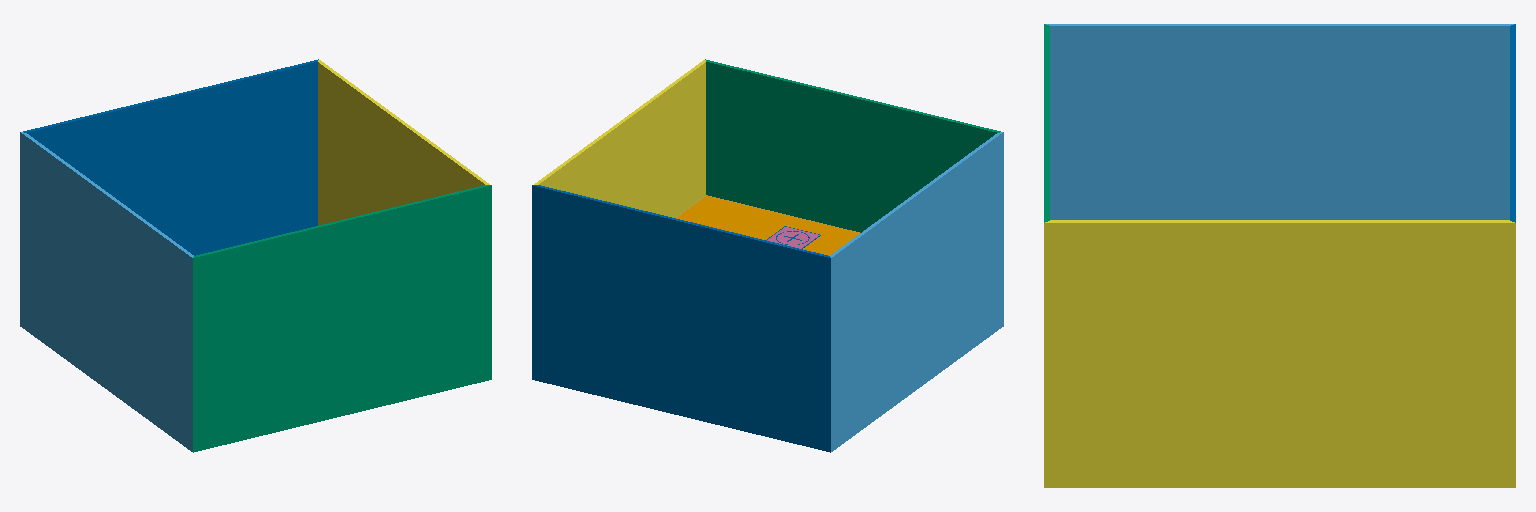
--- Render facts (derived) ---
3 views of the same robot in one strip: view 1: azimuth 30°, elevation 25°; view 2: azimuth 150°, elevation 25°; view 3: azimuth 270°, elevation 25° (orthographic).
Robot: arena_2025_desenho — 23 links, 22 joints (22 fixed); root link base_link; default pose: every joint at zero.
Visible links, largest first — view 1: parede2, parede4, parede1, parede3; view 2: parede4, parede1, parede2, parede3, casa_teto, Landing_Basesazul6; view 3: parede3, parede1, parede2, parede4.
Boxes of the visible links, left/top/right/bottom form: parede2: left=193, top=185, right=491, bottom=452; parede4: left=23, top=59, right=318, bottom=255; parede1: left=20, top=132, right=193, bottom=451; parede3: left=318, top=60, right=489, bottom=225; parede4: left=532, top=185, right=830, bottom=452; parede1: left=830, top=132, right=1003, bottom=451; parede2: left=705, top=59, right=1000, bottom=232; parede3: left=534, top=60, right=705, bottom=217; casa_teto: left=676, top=195, right=859, bottom=255; Landing_Basesazul6: left=767, top=227, right=819, bottom=248; parede3: left=1044, top=220, right=1515, bottom=487; parede1: left=1046, top=24, right=1513, bottom=219; parede2: left=1044, top=24, right=1049, bottom=222; parede4: left=1510, top=24, right=1515, bottom=222.
Size in the robot's own frame: 8.2 by 8.2 by 5.1 metres.
23 mesh visuals loaded from 23 distinct referenced files (23 binary STL).

robot.urdf — arena_2025_desenho:
<?xml version='1.0' encoding='utf-8'?>
<robot name="arena_2025_desenho">
    <link name="base_link">
        <inertial>
            <origin xyz="2.151406390492371 3.959566257292806 0.049933093325697585" rpy="0.0 0.0 0.0" />
            <mass value="50179.96518754694" />
            <inertia ixx="267648.59232663387" iyy="267613.65854371735" izz="535178.8370239404" ixy="184.71112167288084" iyz="-3.373729939756231" ixz="-4.027221266111155" />
        </inertial>
        <visual name="base_link_visual">
            <origin xyz="0.0 0.0 0.0" rpy="0.0 0.0 0.0" />
            <geometry>
                <mesh filename="meshes/base_link.stl" scale="0.001 0.001 0.001" />
            </geometry>
        </visual>
        <collision name="base_link_collision">
            <origin xyz="0.0 0.0 0.0" rpy="0.0 0.0 0.0" />
            <geometry>
                <mesh filename="meshes/base_link.stl" scale="0.001 0.001 0.001" />
            </geometry>
        </collision>
    </link>
    <link name="parede1">
        <inertial>
            <origin xyz="2.500151304242571 0.0 0.00020728681232221825" rpy="0.0 -0.0 0.0" />
            <mass value="32426.387499999997" />
            <inertia ixx="177356.0474374378" iyy="70303.20121853892" izz="247605.20746339276" ixy="0.0" iyz="0.0" ixz="0.1236732509223657" />
        </inertial>
        <visual name="parede1_visual">
            <origin xyz="-0.05000000000000005 -4.0 -0.05" rpy="-0.0 1.5707963267948966 0" />
            <geometry>
                <mesh filename="meshes/parede1.stl" scale="0.001 0.001 0.001" />
            </geometry>
        </visual>
        <collision name="parede1_collision">
            <origin xyz="-0.05000000000000005 -4.0 -0.05" rpy="-0.0 1.5707963267948966 0" />
            <geometry>
                <mesh filename="meshes/parede1.stl" scale="0.001 0.001 0.001" />
            </geometry>
        </collision>
    </link>
    <link name="parede2">
        <inertial>
            <origin xyz="0.0 2.500151304242571 0.00020728681232221825" rpy="0.0 -0.0 0.0" />
            <mass value="32426.387499999997" />
            <inertia ixx="70303.20121853892" iyy="177356.0474374378" izz="247605.20746339276" ixy="0.0" iyz="0.1236732509223657" ixz="0.0" />
        </inertial>
        <visual name="parede2_visual">
            <origin xyz="-4.0 -0.05000000000000005 -0.05" rpy="-1.5707963267948966 -0.0 0.0" />
            <geometry>
                <mesh filename="meshes/parede2.stl" scale="0.001 0.001 0.001" />
            </geometry>
        </visual>
        <collision name="parede2_collision">
            <origin xyz="-4.0 -0.05000000000000005 -0.05" rpy="-1.5707963267948966 -0.0 0.0" />
            <geometry>
                <mesh filename="meshes/parede2.stl" scale="0.001 0.001 0.001" />
            </geometry>
        </collision>
    </link>
    <link name="parede3">
        <inertial>
            <origin xyz="2.500151304242571 -9.999999974752428e-09 0.0002072868123218541" rpy="0.0 -0.0 0.0" />
            <mass value="32426.387499999997" />
            <inertia ixx="177356.04743743734" iyy="70303.20121853799" izz="247605.20746339252" ixy="0.0" iyz="2.3283064365386963e-10" ixz="0.12367325101513416" />
        </inertial>
        <visual name="parede3_visual">
            <origin xyz="-0.05000000000000005 3.99999999 -8.05" rpy="-3.141592653589793 -1.5707963267948966 0" />
            <geometry>
                <mesh filename="meshes/parede3.stl" scale="0.001 0.001 0.001" />
            </geometry>
        </visual>
        <collision name="parede3_collision">
            <origin xyz="-0.05000000000000005 3.99999999 -8.05" rpy="-3.141592653589793 -1.5707963267948966 0" />
            <geometry>
                <mesh filename="meshes/parede3.stl" scale="0.001 0.001 0.001" />
            </geometry>
        </collision>
    </link>
    <link name="parede4">
        <inertial>
            <origin xyz="0.0 -2.500151304242571 0.0002072868123218541" rpy="0.0 -0.0 0.0" />
            <mass value="32426.387499999997" />
            <inertia ixx="70303.20121853799" iyy="177356.04743743734" izz="247605.20746339252" ixy="0.0" iyz="-0.12367325101513416" ixz="-2.3283064365386963e-10" />
        </inertial>
        <visual name="parede4_visual">
            <origin xyz="-4.0 0.05000000000000005 -8.05" rpy="1.5707963267948966 -0.0 0.0" />
            <geometry>
                <mesh filename="meshes/parede4.stl" scale="0.001 0.001 0.001" />
            </geometry>
        </visual>
        <collision name="parede4_collision">
            <origin xyz="-4.0 0.05000000000000005 -8.05" rpy="1.5707963267948966 -0.0 0.0" />
            <geometry>
                <mesh filename="meshes/parede4.stl" scale="0.001 0.001 0.001" />
            </geometry>
        </collision>
    </link>
    <link name="Takeoff_Baseazul">
        <inertial>
            <origin xyz="3.5404745367060284e-05 0.0 0.2487593694653711" rpy="0.0 -0.0 0.0" />
            <mass value="11715.450790096673" />
            <inertia ixx="2445.6988516815363" iyy="4153.691922043008" izz="6115.897055282952" ixy="0.0" iyz="0.0" ixz="-0.09768726833226538" />
        </inertial>
        <visual name="Takeoff_Baseazul_visual">
            <origin xyz="-1.0 -0.75 -0.09899999999999977" rpy="0.0 -0.0 0.0" />
            <geometry>
                <mesh filename="meshes/Takeoff_Baseazul.stl" scale="0.001 0.001 0.001" />
            </geometry>
        </visual>
        <collision name="Takeoff_Baseazul_collision">
            <origin xyz="-1.0 -0.75 -0.09899999999999977" rpy="0.0 -0.0 0.0" />
            <geometry>
                <mesh filename="meshes/Takeoff_Baseazul.stl" scale="0.001 0.001 0.001" />
            </geometry>
        </collision>
    </link>
    <link name="Takeoff_Baseamarelo">
        <inertial>
            <origin xyz="-0.004991413908337279 0.0 0.00489669385435775" rpy="0.0 -0.0 0.0" />
            <mass value="83.09920990333156" />
            <inertia ixx="8.276902645828471" iyy="20.903622247689754" izz="29.17898468038257" ixy="-1.4210854715202004e-14" iyz="-7.105427357601002e-15" ixz="-0.004820981793479007" />
        </inertial>
        <visual name="Takeoff_Baseamarelo_visual">
            <origin xyz="-1.0 -0.75 -0.5899999999999997" rpy="0.0 -0.0 0.0" />
            <geometry>
                <mesh filename="meshes/Takeoff_Baseamarelo.stl" scale="0.001 0.001 0.001" />
            </geometry>
        </visual>
        <collision name="Takeoff_Baseamarelo_collision">
            <origin xyz="-1.0 -0.75 -0.5899999999999997" rpy="0.0 -0.0 0.0" />
            <geometry>
                <mesh filename="meshes/Takeoff_Baseamarelo.stl" scale="0.001 0.001 0.001" />
            </geometry>
        </collision>
    </link>
    <link name="casa_paredes">
        <inertial>
            <origin xyz="0.03020244236199403 -0.016497457106738125 0.773679421811073" rpy="0.0 -0.0 0.0" />
            <mass value="3304.9478712202363" />
            <inertia ixx="2710.2370496198573" iyy="12143.995963199093" izz="13600.09262465265" ixy="87.29446573413043" iyz="42.373173466856315" ixz="20.768977798166816" />
        </inertial>
        <visual name="casa_paredes_visual">
            <origin xyz="-4.988000030000001 -0.99999546 -0.07300000000000006" rpy="0.0 -0.0 0.0" />
            <geometry>
                <mesh filename="meshes/casa_paredes.stl" scale="0.001 0.001 0.001" />
            </geometry>
        </visual>
        <collision name="casa_paredes_collision">
            <origin xyz="-4.988000030000001 -0.99999546 -0.07300000000000006" rpy="0.0 -0.0 0.0" />
            <geometry>
                <mesh filename="meshes/casa_paredes.stl" scale="0.001 0.001 0.001" />
            </geometry>
        </collision>
    </link>
    <link name="casa_teto">
        <inertial>
            <origin xyz="0.012000028397620781 -0.0007485727960292365 -3.841817082559373e-05" rpy="0.0 -0.0 0.0" />
            <mass value="919.118981303504" />
            <inertia ixx="300.9132498118288" iyy="2758.070419543641" izz="3058.9685418189547" ixy="-1.401973804604495e-05" iyz="0.0031351931322660676" ixz="1.6749527276260778e-07" />
        </inertial>
        <visual name="casa_teto_visual">
            <origin xyz="-4.9880000299999985 -0.9999954599999994 -1.595" rpy="0.0 -0.0 0.0" />
            <geometry>
                <mesh filename="meshes/casa_teto.stl" scale="0.001 0.001 0.001" />
            </geometry>
        </visual>
        <collision name="casa_teto_collision">
            <origin xyz="-4.9880000299999985 -0.9999954599999994 -1.595" rpy="0.0 -0.0 0.0" />
            <geometry>
                <mesh filename="meshes/casa_teto.stl" scale="0.001 0.001 0.001" />
            </geometry>
        </collision>
    </link>
    <link name="Landing_Basesazul1">
        <inertial>
            <origin xyz="-0.0009511643046478469 3.9790393202565614e-15 0.009892697491582112" rpy="0.0 -0.0 0.0" />
            <mass value="148.29686817571758" />
            <inertia ixx="12.128993201864883" iyy="12.076418362125676" izz="24.194660242001646" ixy="1.13686837721616e-13" iyz="5.684341886080801e-14" ixz="0.0005088269301722902" />
        </inertial>
        <visual name="Landing_Basesazul1_visual">
            <origin xyz="-0.9999999999999923 -2.9999999999999756 -0.8289999999850989" rpy="0.0 -0.0 0.0" />
            <geometry>
                <mesh filename="meshes/Landing_Basesazul1.stl" scale="0.001 0.001 0.001" />
            </geometry>
        </visual>
        <collision name="Landing_Basesazul1_collision">
            <origin xyz="-0.9999999999999923 -2.9999999999999756 -0.8289999999850989" rpy="0.0 -0.0 0.0" />
            <geometry>
                <mesh filename="meshes/Landing_Basesazul1.stl" scale="0.001 0.001 0.001" />
            </geometry>
        </collision>
    </link>
    <link name="Landing_Basesazul2">
        <inertial>
            <origin xyz="-0.001004328657008955 4.547473508864641e-15 0.009417676117190582" rpy="0.0 -0.0 0.0" />
            <mass value="140.44674172669846" />
            <inertia ixx="11.474084075045539" iyy="11.42150173622349" izz="22.886298334748062" ixy="0.0" iyz="0.0" ixz="0.0004347739619561253" />
        </inertial>
        <visual name="Landing_Basesazul2_visual">
            <origin xyz="-4.499999999999994 -6.49999999999999 -1.0800000160932541" rpy="0.0 -0.0 0.0" />
            <geometry>
                <mesh filename="meshes/Landing_Basesazul2.stl" scale="0.001 0.001 0.001" />
            </geometry>
        </visual>
        <collision name="Landing_Basesazul2_collision">
            <origin xyz="-4.499999999999994 -6.49999999999999 -1.0800000160932541" rpy="0.0 -0.0 0.0" />
            <geometry>
                <mesh filename="meshes/Landing_Basesazul2.stl" scale="0.001 0.001 0.001" />
            </geometry>
        </collision>
    </link>
    <link name="Landing_Basesazul3">
        <inertial>
            <origin xyz="-0.0007849590759346371 1.1368683772161603e-15 0.004725833118343594" rpy="0.0 -0.0 0.0" />
            <mass value="71.87874722349771" />
            <inertia ixx="5.896694965139432" iyy="5.8756744068549835" izz="11.771206799937772" ixy="1.1368683772161603e-13" iyz="2.1316282072803006e-14" ixz="0.0001283127595321787" />
        </inertial>
        <visual name="Landing_Basesazul3_visual">
            <origin xyz="-1.5 -6.0 -0.09900000000000006" rpy="0.0 -0.0 0.0" />
            <geometry>
                <mesh filename="meshes/Landing_Basesazul3.stl" scale="0.001 0.001 0.001" />
            </geometry>
        </visual>
        <collision name="Landing_Basesazul3_collision">
            <origin xyz="-1.5 -6.0 -0.09900000000000006" rpy="0.0 -0.0 0.0" />
            <geometry>
                <mesh filename="meshes/Landing_Basesazul3.stl" scale="0.001 0.001 0.001" />
            </geometry>
        </collision>
    </link>
    <link name="Landing_Basesazul4">
        <inertial>
            <origin xyz="-0.001004327753617531 5.684341886080802e-16 0.004708841869615874" rpy="0.0 -0.0 0.0" />
            <mass value="70.22343402937139" />
            <inertia ixx="5.7353059009071785" iyy="5.709014731560956" izz="11.443159695098984" ixy="2.2737367544323206e-13" iyz="0.0" ixz="0.00010869378922606643" />
        </inertial>
        <visual name="Landing_Basesazul4_visual">
            <origin xyz="-4.0 -4.5 -0.09900000000000006" rpy="0.0 -0.0 0.0" />
            <geometry>
                <mesh filename="meshes/Landing_Basesazul4.stl" scale="0.001 0.001 0.001" />
            </geometry>
        </visual>
        <collision name="Landing_Basesazul4_collision">
            <origin xyz="-4.0 -4.5 -0.09900000000000006" rpy="0.0 -0.0 0.0" />
            <geometry>
                <mesh filename="meshes/Landing_Basesazul4.stl" scale="0.001 0.001 0.001" />
            </geometry>
        </collision>
    </link>
    <link name="Landing_Basesazul5">
        <inertial>
            <origin xyz="-0.0010043277536180995 0.0 0.004708841869615856" rpy="0.0 -0.0 0.0" />
            <mass value="70.22343402937142" />
            <inertia ixx="5.735305900907406" iyy="5.709014731561183" izz="11.443159695122176" ixy="2.2737367544323206e-13" iyz="-3.552713678800501e-15" ixz="0.00010869378923672457" />
        </inertial>
        <visual name="Landing_Basesazul5_visual">
            <origin xyz="-6.999999999999982 -2.999999999999992 -0.09900000000000006" rpy="0.0 -0.0 0.0" />
            <geometry>
                <mesh filename="meshes/Landing_Basesazul5.stl" scale="0.001 0.001 0.001" />
            </geometry>
        </visual>
        <collision name="Landing_Basesazul5_collision">
            <origin xyz="-6.999999999999982 -2.999999999999992 -0.09900000000000006" rpy="0.0 -0.0 0.0" />
            <geometry>
                <mesh filename="meshes/Landing_Basesazul5.stl" scale="0.001 0.001 0.001" />
            </geometry>
        </collision>
    </link>
    <link name="Landing_Basesazul6">
        <inertial>
            <origin xyz="-0.0010043277536192364 0.0 0.004708841869615981" rpy="0.0 -0.0 0.0" />
            <mass value="70.22343402936932" />
            <inertia ixx="5.735305900907347" iyy="5.709014731560954" izz="11.443159695100348" ixy="-1.13686837721616e-13" iyz="-2.8421709430404004e-14" ixz="0.00010869378900224545" />
        </inertial>
        <visual name="Landing_Basesazul6_visual">
            <origin xyz="-5.000000000000001 -1.088 -1.5990000000000002" rpy="0.0 -0.0 0.0" />
            <geometry>
                <mesh filename="meshes/Landing_Basesazul6.stl" scale="0.001 0.001 0.001" />
            </geometry>
        </visual>
        <collision name="Landing_Basesazul6_collision">
            <origin xyz="-5.000000000000001 -1.088 -1.5990000000000002" rpy="0.0 -0.0 0.0" />
            <geometry>
                <mesh filename="meshes/Landing_Basesazul6.stl" scale="0.001 0.001 0.001" />
            </geometry>
        </collision>
    </link>
    <link name="Landing_Basesamarelo_1">
        <inertial>
            <origin xyz="0.008521329256636819 3.4106051316484808e-15 0.004940726358097436" rpy="0.0 -0.0 0.0" />
            <mass value="16.55313194125693" />
            <inertia ixx="1.6140203534953912" iyy="1.6652590536164666" izz="3.2790036378982563" ixy="2.1316282072803006e-14" iyz="2.842170943040401e-14" ixz="0.0003442758916136768" />
        </inertial>
        <visual name="Landing_Basesamarelo_1_visual">
            <origin xyz="-0.9999999999999883 -2.9999999999999645 -0.8399999999850988" rpy="0.0 -0.0 0.0" />
            <geometry>
                <mesh filename="meshes/Landing_Basesamarelo_1.stl" scale="0.001 0.001 0.001" />
            </geometry>
        </visual>
        <collision name="Landing_Basesamarelo_1_collision">
            <origin xyz="-0.9999999999999883 -2.9999999999999645 -0.8399999999850988" rpy="0.0 -0.0 0.0" />
            <geometry>
                <mesh filename="meshes/Landing_Basesamarelo_1.stl" scale="0.001 0.001 0.001" />
            </geometry>
        </collision>
    </link>
    <link name="Landing_Basesamarelo_2">
        <inertial>
            <origin xyz="0.008521329256636819 2.2737367544323206e-15 0.004940730249941509" rpy="0.0 -0.0 0.0" />
            <mass value="16.553131941256936" />
            <inertia ixx="1.6140203534957887" iyy="1.6652590536167504" izz="3.279003637898768" ixy="-1.70530256582424e-13" iyz="1.4210854715202002e-14" ixz="0.00034427589159236044" />
        </inertial>
        <visual name="Landing_Basesamarelo_2_visual">
            <origin xyz="-4.49999999999999 -6.499999999999984 -1.0899999960932543" rpy="0.0 -0.0 0.0" />
            <geometry>
                <mesh filename="meshes/Landing_Basesamarelo_2.stl" scale="0.001 0.001 0.001" />
            </geometry>
        </visual>
        <collision name="Landing_Basesamarelo_2_collision">
            <origin xyz="-4.49999999999999 -6.499999999999984 -1.0899999960932543" rpy="0.0 -0.0 0.0" />
            <geometry>
                <mesh filename="meshes/Landing_Basesamarelo_2.stl" scale="0.001 0.001 0.001" />
            </geometry>
        </collision>
    </link>
    <link name="Landing_Basesamarelo_3">
        <inertial>
            <origin xyz="0.008521329256635965 -1.1368683772161603e-15 0.001976290537278267" rpy="0.0 -0.0 0.0" />
            <mass value="6.621252776502777" />
            <inertia ixx="0.6455618121697171" iyy="0.6660572922181043" izz="1.3116014551578985" ixy="-2.1316282072803006e-14" iyz="-1.7763568394002505e-15" ixz="5.508414265742445e-05" />
        </inertial>
        <visual name="Landing_Basesamarelo_3_visual">
            <origin xyz="-1.5 -6.0 -0.10500000000000005" rpy="0.0 -0.0 0.0" />
            <geometry>
                <mesh filename="meshes/Landing_Basesamarelo_3.stl" scale="0.001 0.001 0.001" />
            </geometry>
        </visual>
        <collision name="Landing_Basesamarelo_3_collision">
            <origin xyz="-1.5 -6.0 -0.10500000000000005" rpy="0.0 -0.0 0.0" />
            <geometry>
                <mesh filename="meshes/Landing_Basesamarelo_3.stl" scale="0.001 0.001 0.001" />
            </geometry>
        </collision>
    </link>
    <link name="Landing_Basesamarelo_4">
        <inertial>
            <origin xyz="0.008521329256636819 0.0 0.0024703631715978958" rpy="0.0 -0.0 0.0" />
            <mass value="8.276565970628468" />
            <inertia ixx="0.8069584700195094" iyy="0.8325778200800187" izz="1.6395018189472808" ixy="0.0" iyz="1.7763568394002505e-15" ixz="8.606897290519555e-05" />
        </inertial>
        <visual name="Landing_Basesamarelo_4_visual">
            <origin xyz="-4.0 -4.5 -0.10400000000000006" rpy="0.0 -0.0 0.0" />
            <geometry>
                <mesh filename="meshes/Landing_Basesamarelo_4.stl" scale="0.001 0.001 0.001" />
            </geometry>
        </visual>
        <collision name="Landing_Basesamarelo_4_collision">
            <origin xyz="-4.0 -4.5 -0.10400000000000006" rpy="0.0 -0.0 0.0" />
            <geometry>
                <mesh filename="meshes/Landing_Basesamarelo_4.stl" scale="0.001 0.001 0.001" />
            </geometry>
        </collision>
    </link>
    <link name="Landing_Basesamarelo_5">
        <inertial>
            <origin xyz="0.008521329256631134 -2.842170943040401e-15 0.002470363171597807" rpy="0.0 -0.0 0.0" />
            <mass value="8.276565970628445" />
            <inertia ixx="0.8069584700196089" iyy="0.8325778200803029" izz="1.6395018189477355" ixy="-1.4210854715202004e-13" iyz="-2.6645352591003757e-15" ixz="8.606897289720195e-05" />
        </inertial>
        <visual name="Landing_Basesamarelo_5_visual">
            <origin xyz="-7.0 -3.0 -0.10400000000000006" rpy="0.0 -0.0 0.0" />
            <geometry>
                <mesh filename="meshes/Landing_Basesamarelo_5.stl" scale="0.001 0.001 0.001" />
            </geometry>
        </visual>
        <collision name="Landing_Basesamarelo_5_collision">
            <origin xyz="-7.0 -3.0 -0.10400000000000006" rpy="0.0 -0.0 0.0" />
            <geometry>
                <mesh filename="meshes/Landing_Basesamarelo_5.stl" scale="0.001 0.001 0.001" />
            </geometry>
        </collision>
    </link>
    <link name="Landing_Basesamarelo_6">
        <inertial>
            <origin xyz="0.00852132925663625 4.263256414560601e-16 0.002470363171597967" rpy="0.0 -0.0 0.0" />
            <mass value="8.276565970628454" />
            <inertia ixx="0.8069584700195236" iyy="0.8325778200800187" izz="1.6395018189473092" ixy="7.105427357601002e-15" iyz="7.105427357601002e-15" ixz="8.606897290519555e-05" />
        </inertial>
        <visual name="Landing_Basesamarelo_6_visual">
            <origin xyz="-5.0 -1.088 -1.605" rpy="0.0 -0.0 0.0" />
            <geometry>
                <mesh filename="meshes/Landing_Basesamarelo_6.stl" scale="0.001 0.001 0.001" />
            </geometry>
        </visual>
        <collision name="Landing_Basesamarelo_6_collision">
            <origin xyz="-5.0 -1.088 -1.605" rpy="0.0 -0.0 0.0" />
            <geometry>
                <mesh filename="meshes/Landing_Basesamarelo_6.stl" scale="0.001 0.001 0.001" />
            </geometry>
        </collision>
    </link>
    <link name="base_movelzinza1">
        <inertial>
            <origin xyz="4.263256414560601e-16 1.7053025658242404e-15 0.365" rpy="0.0 -0.0 0.0" />
            <mass value="5730.499999999999" />
            <inertia ixx="732.0236208333299" iyy="732.0236208333135" izz="955.0833333339688" ixy="-3.637978807091713e-12" iyz="-9.094947017729282e-13" ixz="0.0" />
        </inertial>
        <visual name="base_movelzinza1_visual">
            <origin xyz="-0.9999999999999943 -2.9999999999999822 -0.1" rpy="0.0 -0.0 0.0" />
            <geometry>
                <mesh filename="meshes/base_movelzinza1.stl" scale="0.001 0.001 0.001" />
            </geometry>
        </visual>
        <collision name="base_movelzinza1_collision">
            <origin xyz="-0.9999999999999943 -2.9999999999999822 -0.1" rpy="0.0 -0.0 0.0" />
            <geometry>
                <mesh filename="meshes/base_movelzinza1.stl" scale="0.001 0.001 0.001" />
            </geometry>
        </collision>
    </link>
    <link name="base_movelzinza2">
        <inertial>
            <origin xyz="0.0 0.0 0.48999999999999994" rpy="0.0 -0.0 0.0" />
            <mass value="7692.999999999999" />
            <inertia ixx="1256.779766666703" iyy="1256.7797666666738" izz="1282.1666666668025" ixy="-2.9103830456733704e-11" iyz="-7.275957614183426e-12" ixz="3.637978807091713e-12" />
        </inertial>
        <visual name="base_movelzinza2_visual">
            <origin xyz="-4.5 -6.5 -0.1" rpy="0.0 -0.0 0.0" />
            <geometry>
                <mesh filename="meshes/base_movelzinza2.stl" scale="0.001 0.001 0.001" />
            </geometry>
        </visual>
        <collision name="base_movelzinza2_collision">
            <origin xyz="-4.5 -6.5 -0.1" rpy="0.0 -0.0 0.0" />
            <geometry>
                <mesh filename="meshes/base_movelzinza2.stl" scale="0.001 0.001 0.001" />
            </geometry>
        </collision>
    </link>
    <joint name="base_link_Rígido-31" type="fixed">
        <origin xyz="-1.900211556812397 3.9582063296646015 0.05000000000000005" rpy="-0.0 -1.5707963267948966 0" />
        <parent link="base_link" />
        <child link="parede1" />
    </joint>
    <joint name="base_link_Rígido-32" type="fixed">
        <origin xyz="2.149788443187603 8.0082063296646 0.05000000000000005" rpy="-1.5707963267948966 -0.0 0.0" />
        <parent link="base_link" />
        <child link="parede4" />
    </joint>
    <joint name="base_link_Rígido-33" type="fixed">
        <origin xyz="6.199788443187604 3.9582063196646016 0.05000000000000005" rpy="-3.141592653589793 -1.5707963267948966 0" />
        <parent link="base_link" />
        <child link="parede3" />
    </joint>
    <joint name="base_link_Rígido-34" type="fixed">
        <origin xyz="2.149788443187603 -0.09179367033539848 0.05000000000000005" rpy="1.5707963267948966 -0.0 0.0" />
        <parent link="base_link" />
        <child link="parede2" />
    </joint>
    <joint name="base_link_Rígido-35" type="fixed">
        <origin xyz="-0.8502115568123969 0.7082063296646015 0.09900000000000006" rpy="0.0 -0.0 0.0" />
        <parent link="base_link" />
        <child link="Takeoff_Baseazul" />
    </joint>
    <joint name="base_link_Rígido-37" type="fixed">
        <origin xyz="-0.3502115568123969 5.958206329664602 0.09900000000000006" rpy="0.0 -0.0 0.0" />
        <parent link="base_link" />
        <child link="Landing_Basesazul3" />
    </joint>
    <joint name="base_link_Rígido-38" type="fixed">
        <origin xyz="2.149788443187603 4.458206329664602 0.09900000000000006" rpy="0.0 -0.0 0.0" />
        <parent link="base_link" />
        <child link="Landing_Basesazul4" />
    </joint>
    <joint name="base_link_Rígido-40" type="fixed">
        <origin xyz="5.149788443187604 2.9582063296646015 0.09900000000000006" rpy="0.0 -0.0 0.0" />
        <parent link="base_link" />
        <child link="Landing_Basesazul5" />
    </joint>
    <joint name="base_link_Rígido-41" type="fixed">
        <origin xyz="3.1377884731876033 0.9582017896646015 0.07300000000000006" rpy="0.0 -0.0 0.0" />
        <parent link="base_link" />
        <child link="casa_paredes" />
    </joint>
    <joint name="casa_paredes_Rígido-42" type="fixed">
        <origin xyz="0.0 0.0 1.522" rpy="0.0 -0.0 0.0" />
        <parent link="casa_paredes" />
        <child link="casa_teto" />
    </joint>
    <joint name="casa_teto_Rígido-43" type="fixed">
        <origin xyz="0.011999969999999962 0.08800454000000002 0.004000000000000057" rpy="0.0 -0.0 0.0" />
        <parent link="casa_teto" />
        <child link="Landing_Basesazul6" />
    </joint>
    <joint name="Takeoff_Baseazul_Rígido-44" type="fixed">
        <origin xyz="0.0 0.0 0.49100000000000005" rpy="0.0 -0.0 0.0" />
        <parent link="Takeoff_Baseazul" />
        <child link="Takeoff_Baseamarelo" />
    </joint>
    <joint name="Landing_Basesazul3_Rígido-46" type="fixed">
        <origin xyz="0.0 0.0 0.005999999999999997" rpy="0.0 -0.0 0.0" />
        <parent link="Landing_Basesazul3" />
        <child link="Landing_Basesamarelo_3" />
    </joint>
    <joint name="Landing_Basesazul4_Rígido-48" type="fixed">
        <origin xyz="0.0 0.0 0.005" rpy="0.0 -0.0 0.0" />
        <parent link="Landing_Basesazul4" />
        <child link="Landing_Basesamarelo_4" />
    </joint>
    <joint name="Landing_Basesazul5_Rígido-49" type="fixed">
        <origin xyz="0.0 0.0 0.005" rpy="0.0 -0.0 0.0" />
        <parent link="Landing_Basesazul5" />
        <child link="Landing_Basesamarelo_5" />
    </joint>
    <joint name="Landing_Basesazul6_Rígido-50" type="fixed">
        <origin xyz="-5.684341886080802e-16 -1.4210854715202004e-16 0.005" rpy="0.0 -0.0 0.0" />
        <parent link="Landing_Basesazul6" />
        <child link="Landing_Basesamarelo_6" />
    </joint>
    <joint name="base_movelzinza1_Rígido-56" type="fixed">
        <origin xyz="0.0 0.0 0.73" rpy="0.0 -0.0 0.0" />
        <parent link="base_movelzinza1" />
        <child link="Landing_Basesazul1" />
    </joint>
    <joint name="Landing_Basesazul1_Rígido-57" type="fixed">
        <origin xyz="-1.4210854715202004e-16 0.0 0.010999999999999944" rpy="0.0 -0.0 0.0" />
        <parent link="Landing_Basesazul1" />
        <child link="Landing_Basesamarelo_1" />
    </joint>
    <joint name="base_link_Rígido-58" type="fixed">
        <origin xyz="-0.8502115568123969 2.9582063296646015 0.09900000000000006" rpy="0.0 -0.0 0.0" />
        <parent link="base_link" />
        <child link="base_movelzinza1" />
    </joint>
    <joint name="base_link_Rígido-59" type="fixed">
        <origin xyz="2.649788443187603 6.458206329664602 0.09900000000000006" rpy="0.0 -0.0 0.0" />
        <parent link="base_link" />
        <child link="base_movelzinza2" />
    </joint>
    <joint name="base_movelzinza2_Rígido-60" type="fixed">
        <origin xyz="0.0 0.0 0.98" rpy="0.0 -0.0 0.0" />
        <parent link="base_movelzinza2" />
        <child link="Landing_Basesazul2" />
    </joint>
    <joint name="Landing_Basesazul2_Rígido-61" type="fixed">
        <origin xyz="0.0 0.0 0.00999998000000005" rpy="0.0 -0.0 0.0" />
        <parent link="Landing_Basesazul2" />
        <child link="Landing_Basesamarelo_2" />
    </joint>
</robot>
